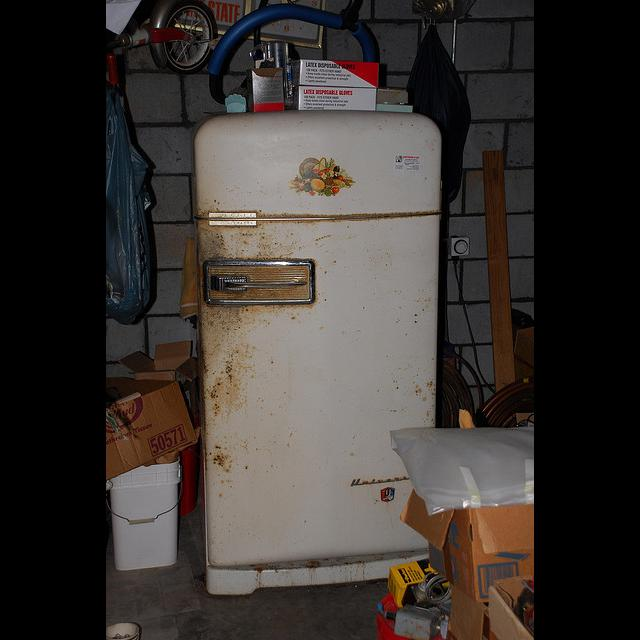Refrigerator: (191, 114, 444, 594)
